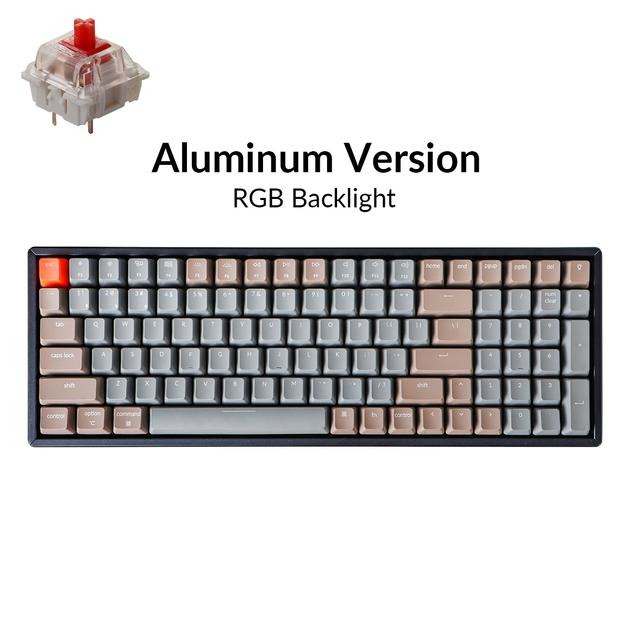keyboard: (30, 246, 601, 444)
